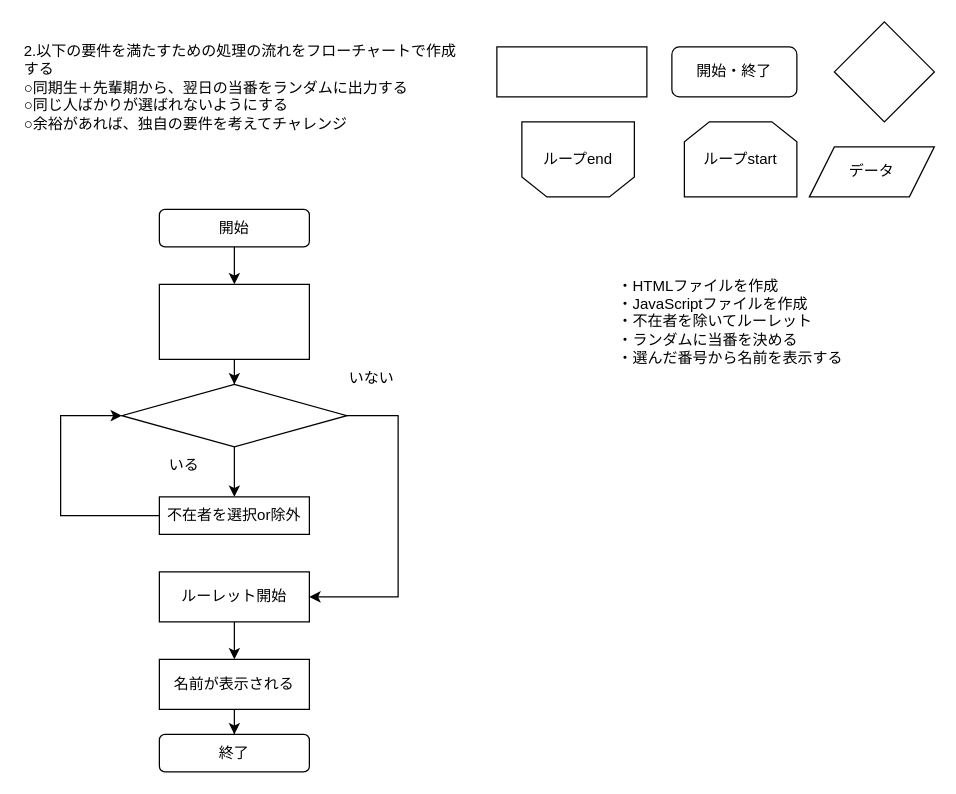
This 956x794 diagram has some shape labels left out. Each missing label, with the centre of its shape:
"HTMLファイルを開いたらブラウザが開く" goes at point 233,321.
"不在者がいるか？" goes at point 234,415.
"処理" goes at point 571,71.
"分岐条件" goes at point 883,71.
